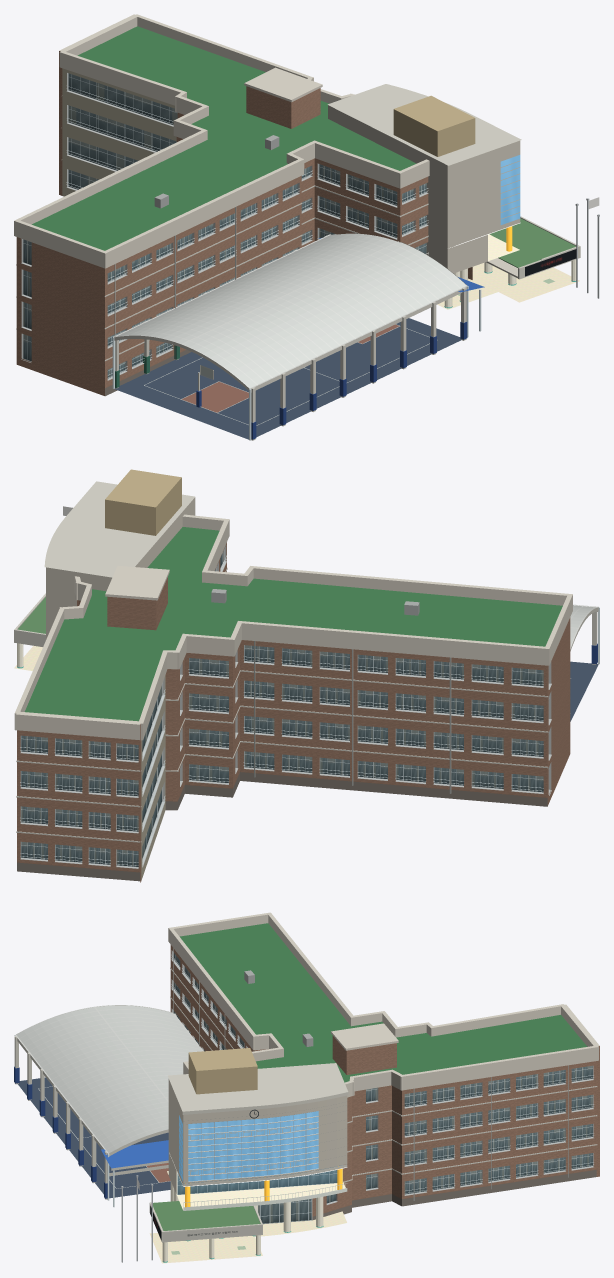
The picture shows the model from 3 angles, top to bottom: view 1: azimuth 30°, elevation 25°; view 2: azimuth 150°, elevation 25°; view 3: azimuth 270°, elevation 25°; orthographic projection. The views are drawn at different scales.
Visible parts, largest first — view 1: main__link-roof, main__roof, main__parapet-concrete, main__brick, main__wall-plaster, main__glass, main__court-floor, main__trim-concrete, main__core-panel-plaster, main__link-rib, main__frame, main__courtyard-core-panel (+9 smaller); view 2: main__roof, main__wall-plaster, main__glass, main__parapet-concrete, main__brick, main__trim-concrete, main__frame, main__window-reveal, main__base-stone, main__core-roofhouse-plaster, main__core-panel-plaster, main__courtyard-core-panel (+4 smaller); view 3: main__brick, main__roof, main__link-roof, main__parapet-concrete, main__trim-concrete, main__glass, main__glass-blue, main__frame, main__core-panel-plaster, main__link-rib, main__court-floor, main__core-roofhouse-plaster (+15 smaller).
Boxes of the visible parts, <box> form: main__link-roof: <box>116,233,466,388</box>; main__roof: <box>32,26,416,250</box>; main__parapet-concrete: <box>14,14,429,268</box>; main__brick: <box>16,51,472,395</box>; main__wall-plaster: <box>154,158,428,364</box>; main__glass: <box>23,73,426,378</box>; main__court-floor: <box>114,318,461,439</box>; main__trim-concrete: <box>16,84,580,440</box>; main__core-panel-plaster: <box>328,105,520,273</box>; main__link-rib: <box>113,234,467,388</box>; main__frame: <box>22,73,481,440</box>; main__courtyard-core-panel: <box>62,68,176,196</box>; main__roof: <box>24,527,562,721</box>; main__wall-plaster: <box>86,542,467,872</box>; main__glass: <box>21,552,543,866</box>; main__parapet-concrete: <box>14,514,572,740</box>; main__brick: <box>17,577,570,882</box>; main__trim-concrete: <box>14,481,598,842</box>; main__frame: <box>20,549,599,867</box>; main__window-reveal: <box>20,545,551,868</box>; main__base-stone: <box>17,772,547,881</box>; main__core-roofhouse-plaster: <box>105,469,181,535</box>; main__core-panel-plaster: <box>46,497,195,639</box>; main__courtyard-core-panel: <box>141,675,165,880</box>; main__brick: <box>170,945,599,1216</box>; main__roof: <box>180,923,587,1082</box>; main__link-roof: <box>16,1005,201,1153</box>; main__parapet-concrete: <box>168,912,599,1097</box>; main__trim-concrete: <box>14,967,597,1242</box>; main__glass: <box>174,953,592,1223</box>; main__glass-blue: <box>179,1111,318,1181</box>; main__frame: <box>14,955,593,1223</box>; main__core-panel-plaster: <box>168,1079,347,1224</box>; main__link-rib: <box>15,1005,203,1153</box>; main__court-floor: <box>17,1077,170,1198</box>; main__core-roofhouse-plaster: <box>188,1048,257,1094</box>.
Bounding box in the file's own units: 60.24 × 19.55 × 65.7.
Materials: 59 (11 with a texture image).
